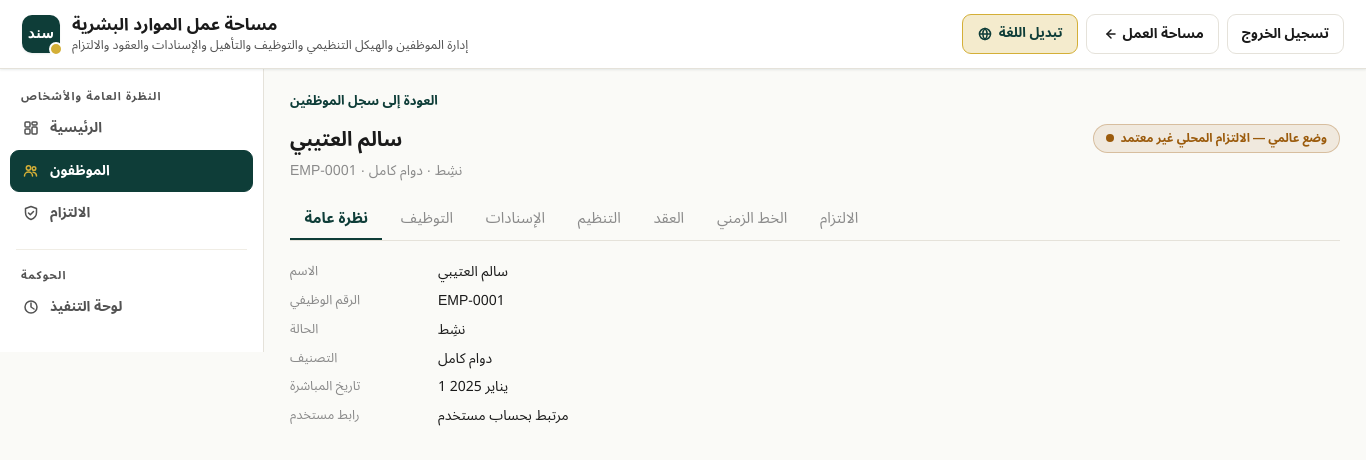
it: Employee 360 — lifecycle actions › hides lifecycle commands without the update/terminate capabilities
Check: the heading "سالم العتيبي" is shown, box [290,119,402,161]
Click the tab "التوظيف". click: (427,219)
box: [386,198,468,240]
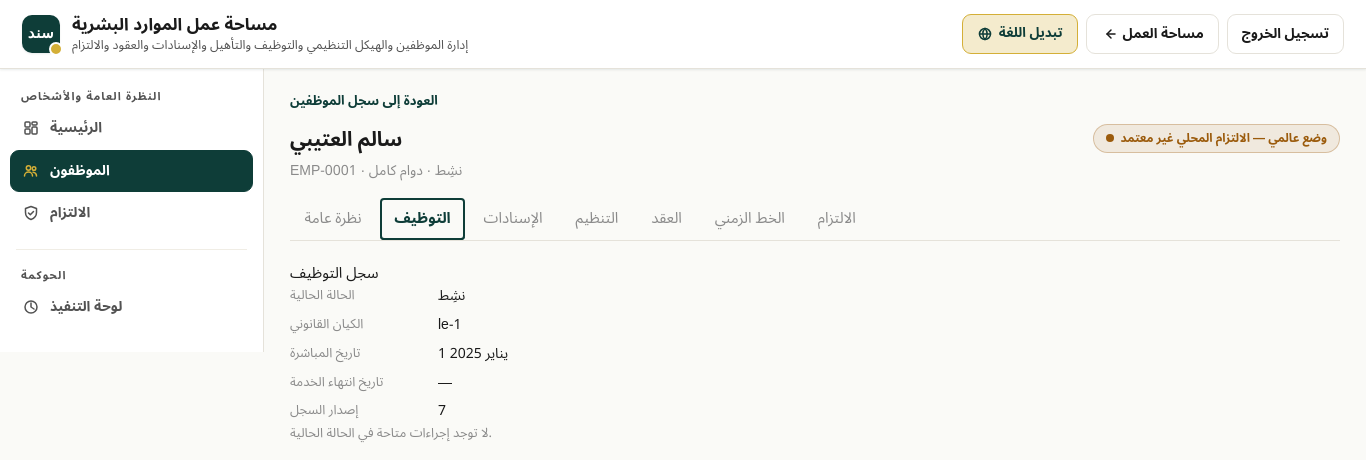
Check: the heading "سجل التوظيف" is shown, box [290,257,378,289]
